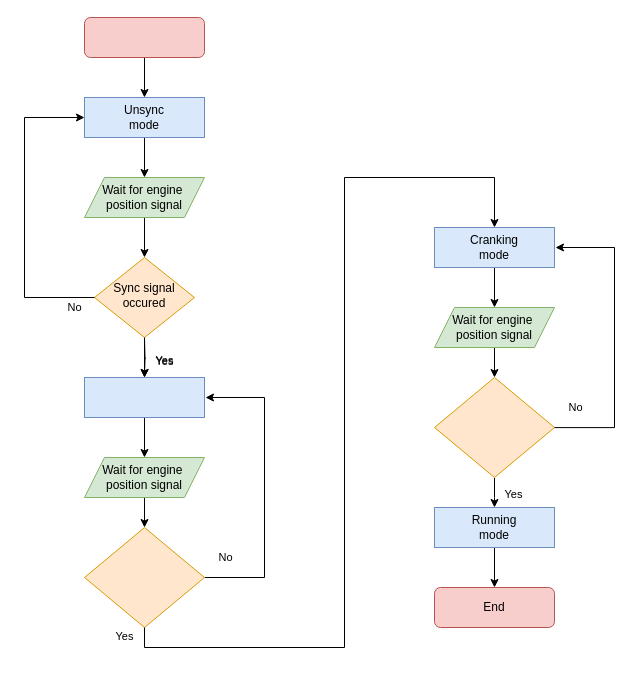
Some shapes in this 640 by 673 pixel diagram are drawn without their labels. Here are the shapes that lost their labels. From the top down, the box of each, then its label:
(84, 16, 204, 58): Start
(84, 376, 204, 418): Sync mode
(434, 376, 554, 478): Is engine speed over max. cranking level
(84, 526, 204, 628): Is engine speed over min. cranking level
